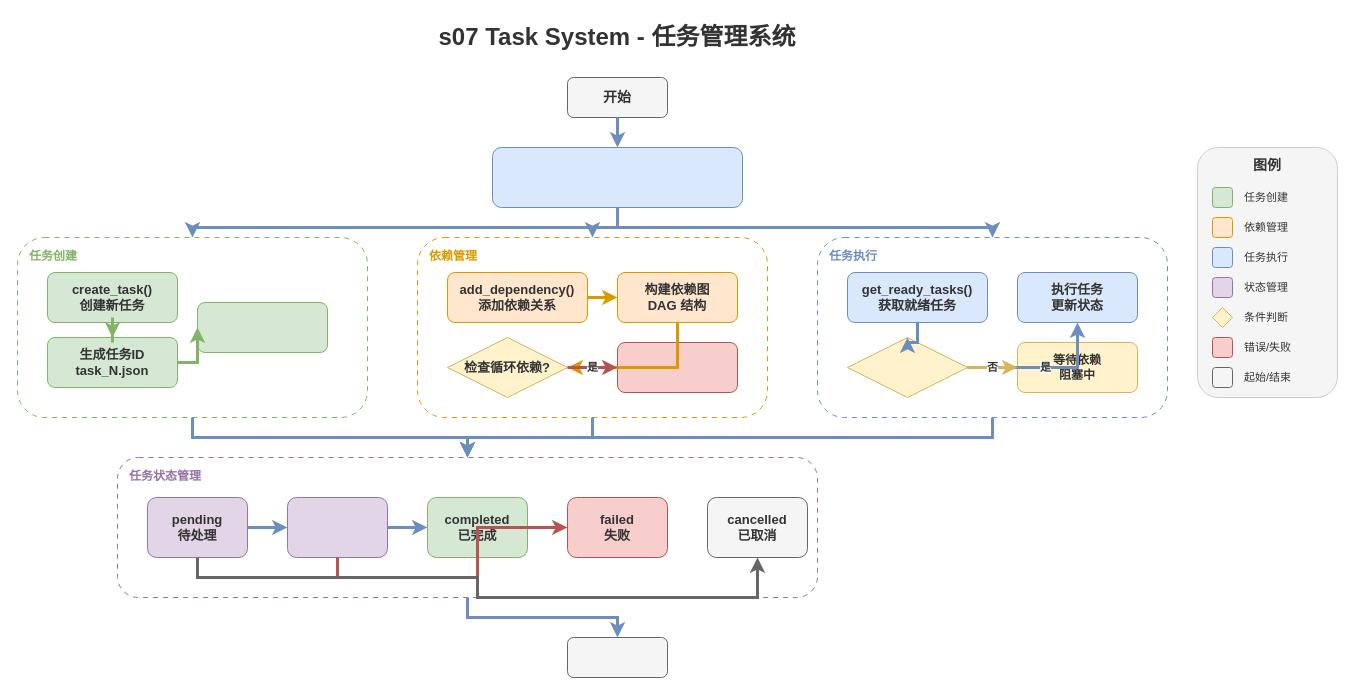
The diagram is 1355 pixels wide and 695 high, and some of its shapes have lost their labels. The shapes that lost their labels are listed below. From the top down, each one's centre as x and y in pixels, then its label:
the point at 617,177: 初始化 TaskManager tasks/ 目录
the point at 262,327: 保存到 .tasks/ 持久化存储
the point at 677,367: 拒绝依赖 报错循环
the point at 907,367: 依赖已满足?
the point at 337,527: running 运行中
the point at 617,657: 结束
